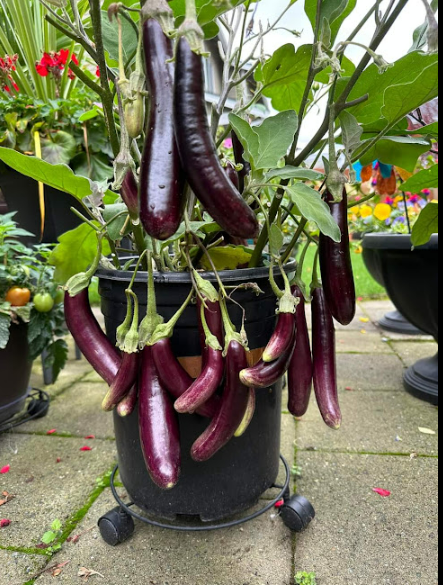catim: (168, 8, 259, 235), (131, 0, 187, 230), (192, 314, 257, 459), (313, 159, 368, 317), (306, 286, 346, 436), (61, 276, 116, 376)
